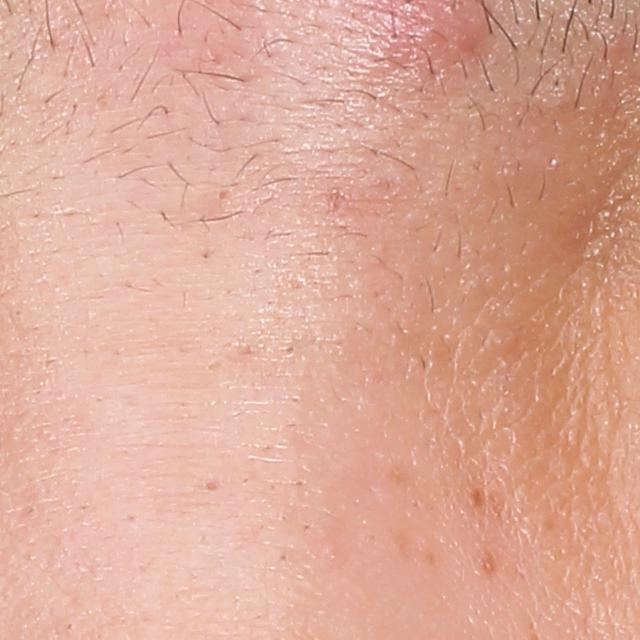comedo: (200, 473, 224, 495), (215, 185, 233, 202)
melasma: (466, 489, 494, 515)
